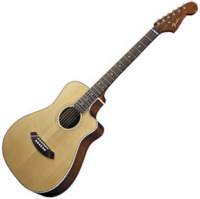guitar: (2, 1, 197, 199)
